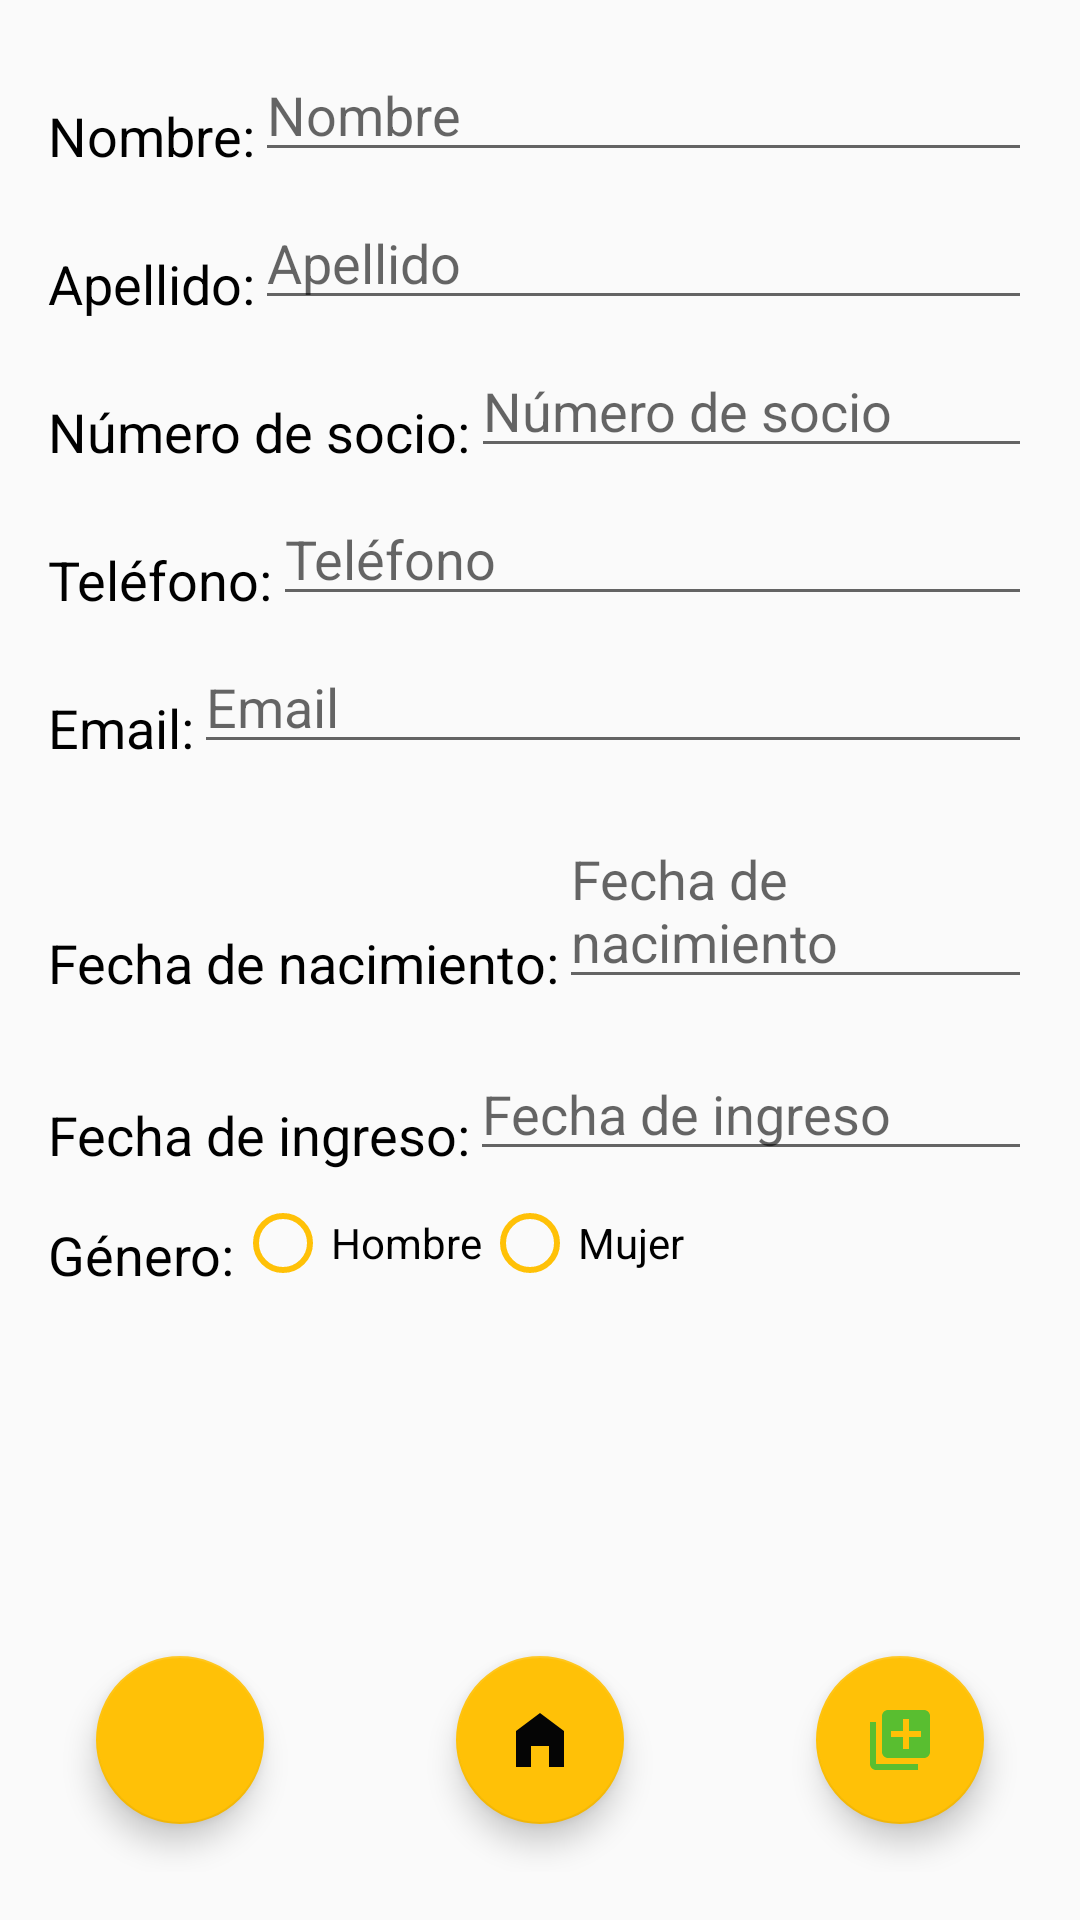

Icons on this 1080 x 1920 Android screen, each with its box as (x1, y1, x2, y2):
home: (456, 1656, 624, 1824)
